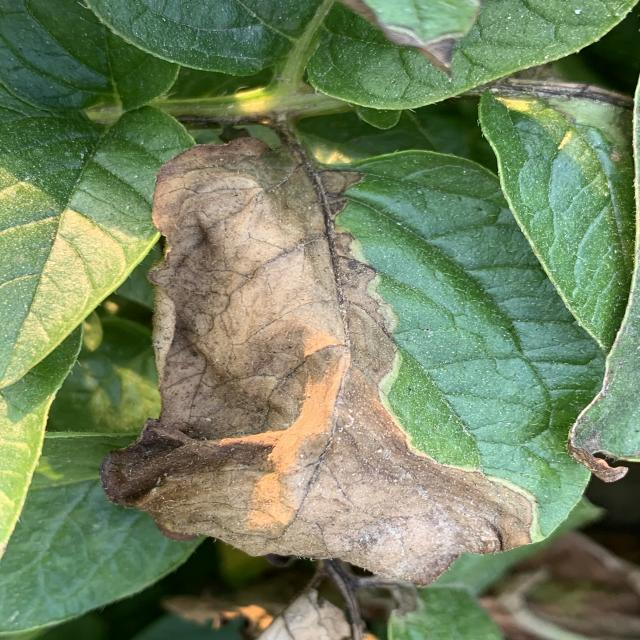lateblight: (100, 139, 535, 584)
